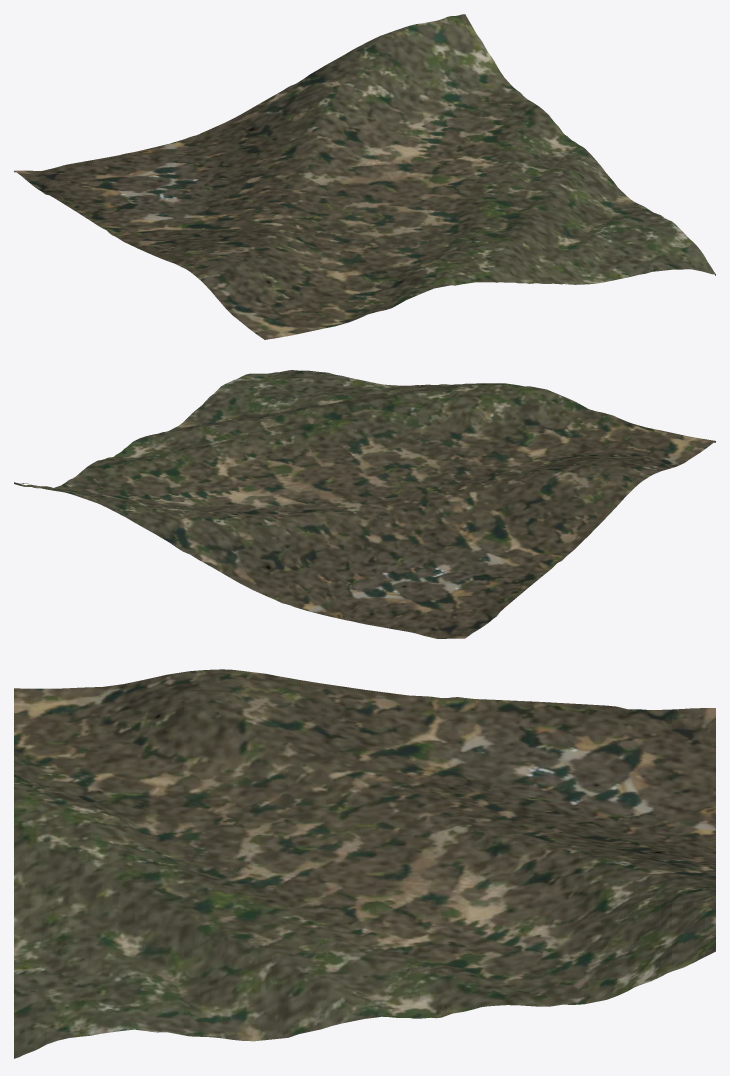
3 renders of one model, top to bottom at view 1: azimuth 30°, elevation 25°; view 2: azimuth 150°, elevation 25°; view 3: azimuth 270°, elevation 25°, orthographic. The views are drawn at different scales.
Bounding box in the file's own units: 250 × 42.71 × 241.
1 material, 1 textured.
